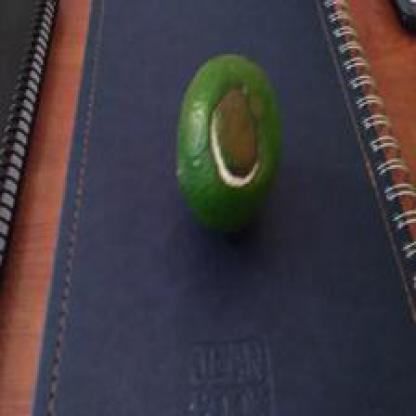orange_rotten: (156, 52, 327, 243)
